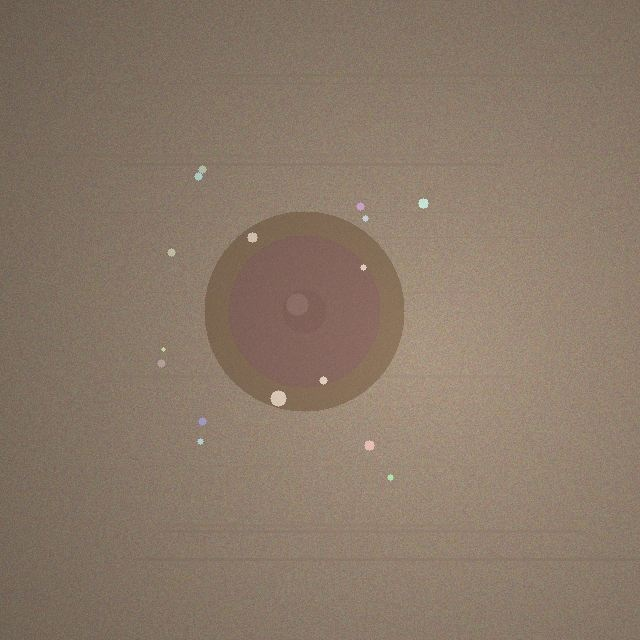overburn: (204, 211, 404, 411)
